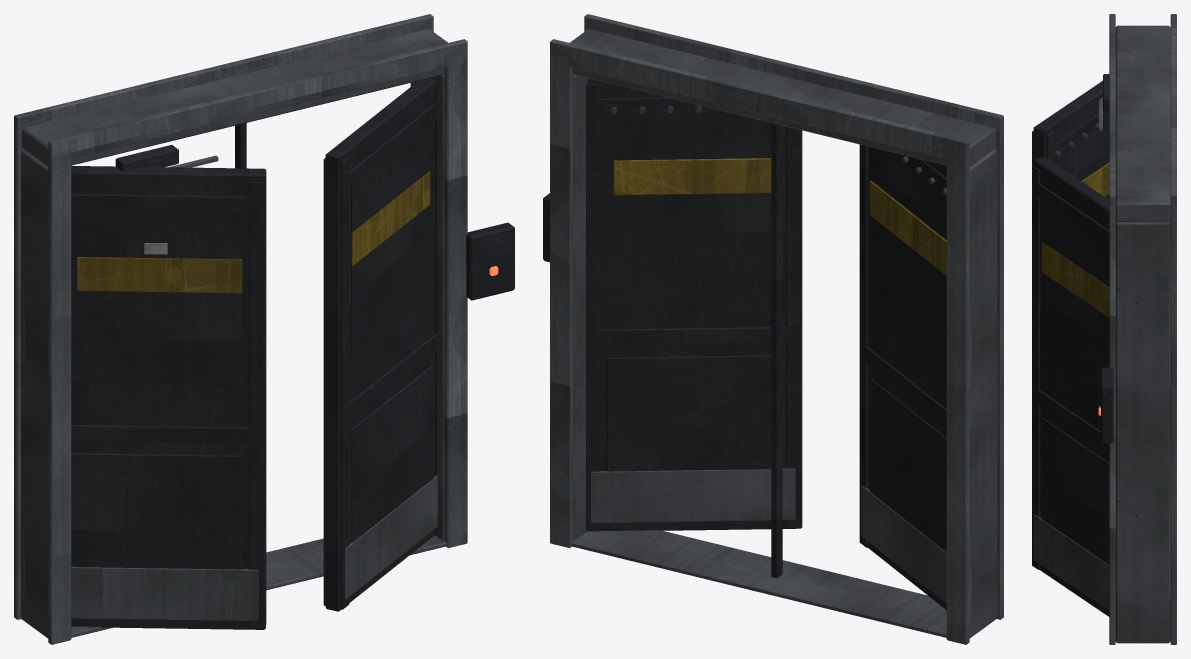
Rendered from door_dbl_steel.glb.
The picture shows the model from 3 angles, left to right: view 1: azimuth 30°, elevation 25°; view 2: azimuth 150°, elevation 25°; view 3: azimuth 270°, elevation 25°; orthographic projection. The views are drawn at different scales.
Parts seen in each view (by area): view 1: door, frame, door2; view 2: frame, door2, door; view 3: frame, door2, door.
Boxes of the visible parts, x1,y1,x2,y2 form: door: [71, 166, 266, 629]; frame: [14, 14, 514, 644]; door2: [323, 78, 437, 611]; frame: [543, 14, 1003, 644]; door2: [586, 78, 802, 531]; door: [859, 144, 946, 609]; frame: [1098, 14, 1176, 644]; door2: [1032, 156, 1109, 616]; door: [1032, 81, 1109, 199].
Size of the model in its own units: 2.25 by 2.35 by 0.6858.
Materials: 6 (5 with a texture image).
